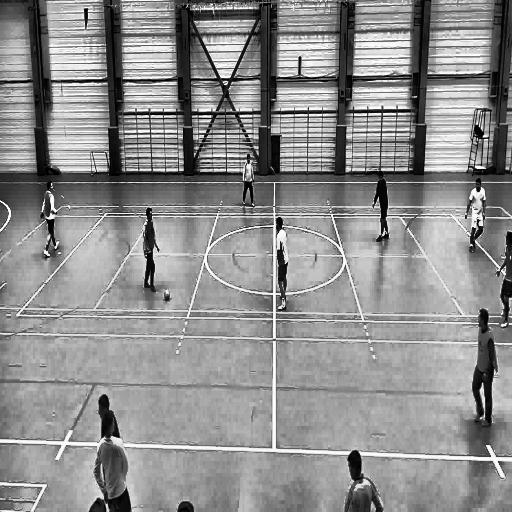ball: (162, 288, 172, 304)
player: (471, 307, 498, 431), (464, 170, 486, 254), (141, 204, 161, 296), (273, 215, 291, 317), (40, 180, 62, 261), (370, 168, 392, 246), (496, 227, 512, 329), (242, 152, 259, 210)
